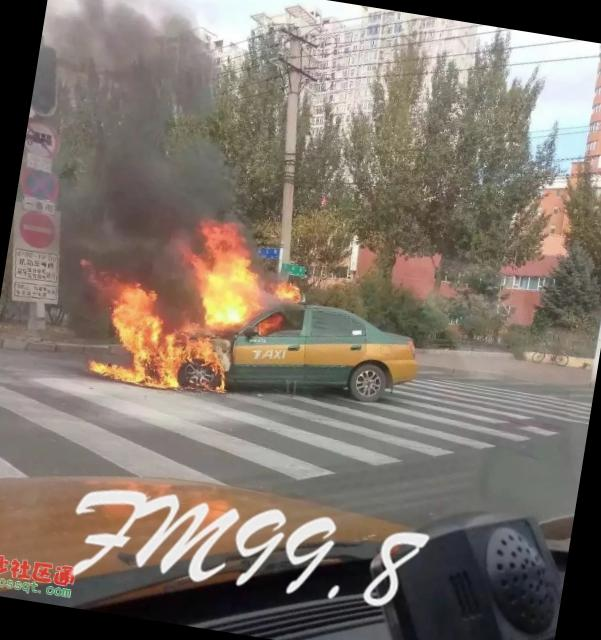fire: (72, 197, 309, 412)
